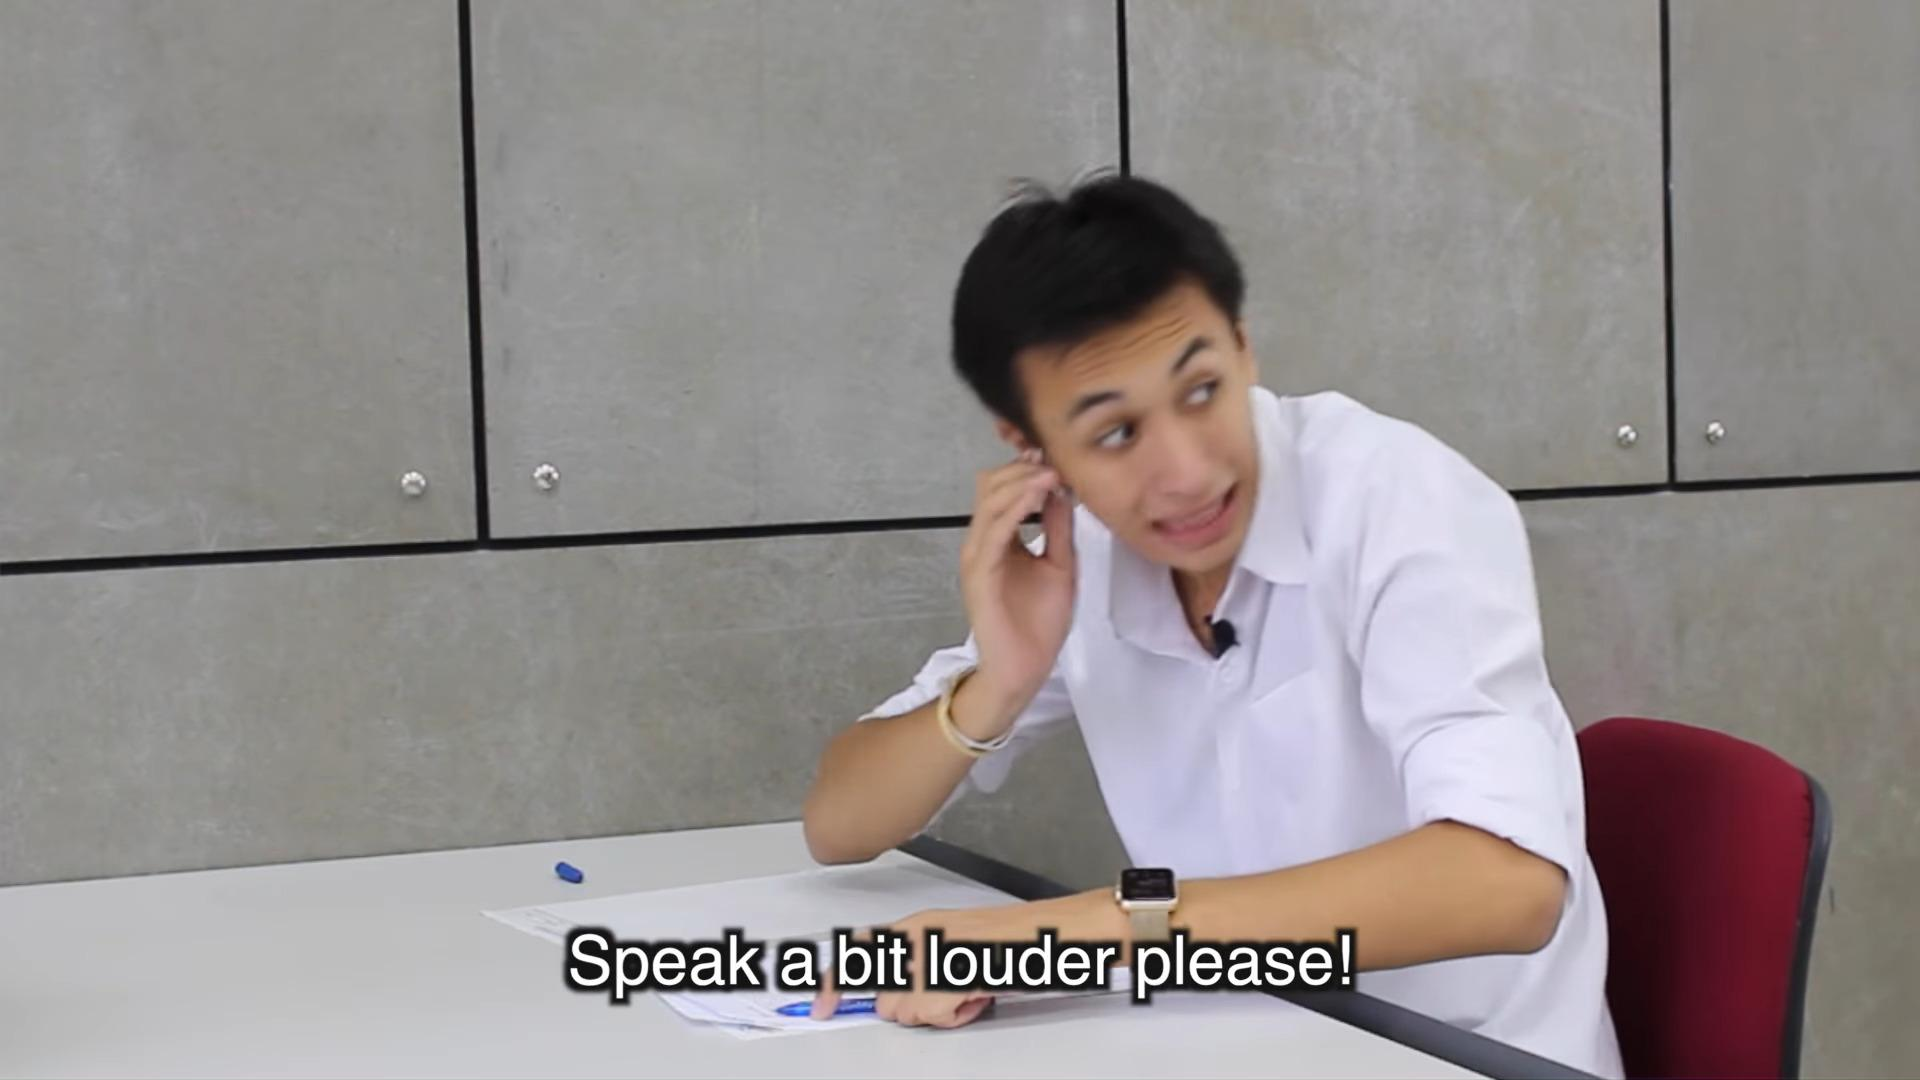cheating: (471, 153, 1630, 922)
